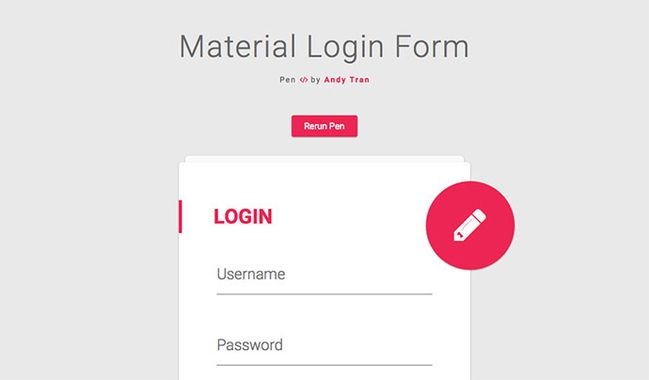button: (290, 112, 362, 141)
field_line: (213, 334, 436, 370), (214, 263, 435, 298)
